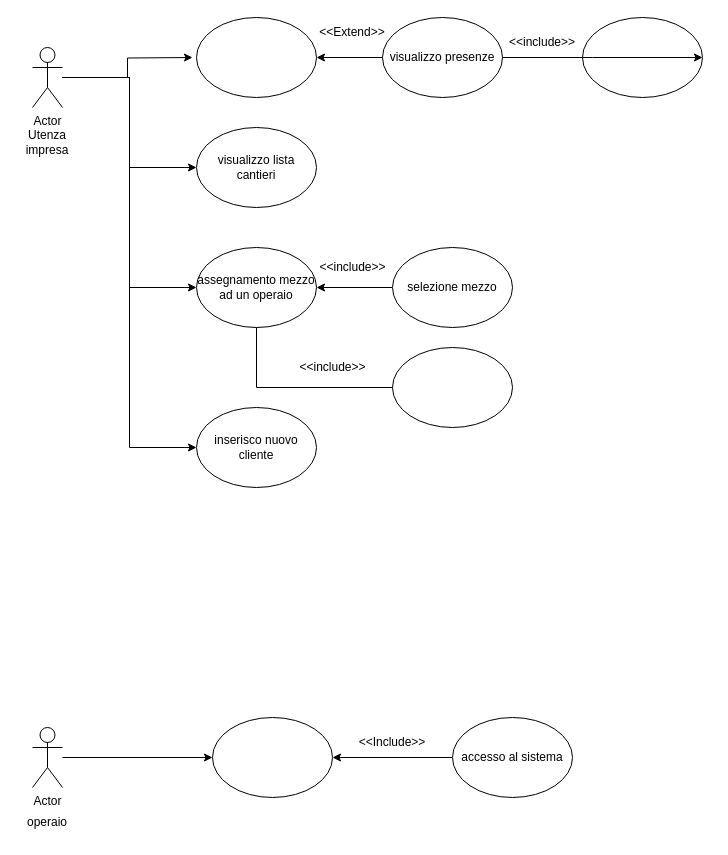
Image size: 728x855. Some labels were removed from this diagram. The centre of each missing label's shape, as x and y in pixels:
"inserisce presenza giornaliera" goes at pixel 272 757.
"seleziono singolo operaio" goes at pixel 642 57.
"verifico esistenza operaio" goes at pixel 452 387.
"visualizza lista operai" goes at pixel 256 57.
